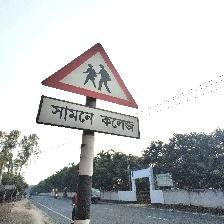College-in-front: (20, 34, 174, 159)
